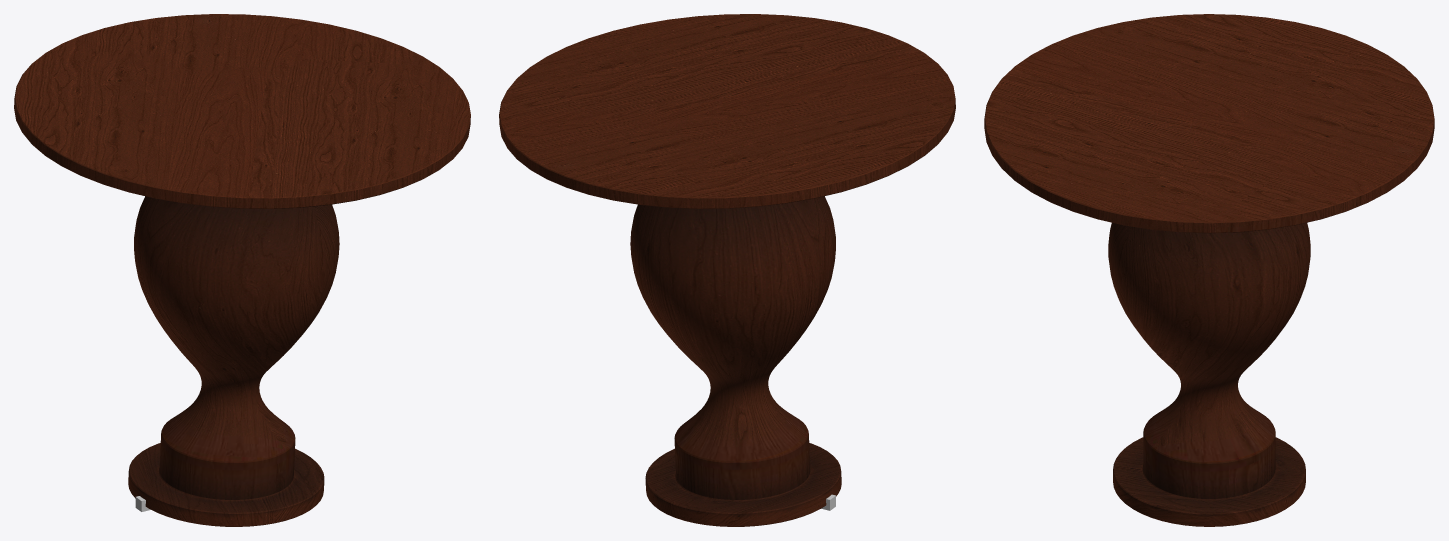
The model's file is 10248_Side_Table_v1_iterations-2.obj.
3 renders of one model, left to right at view 1: azimuth 30°, elevation 25°; view 2: azimuth 150°, elevation 25°; view 3: azimuth 270°, elevation 25°, orthographic.
Visible parts, largest first — view 1: 10248_Side_Table_v1_iterations-2; view 2: 10248_Side_Table_v1_iterations-2; view 3: 10248_Side_Table_v1_iterations-2.
Boxes of the visible parts, x1,y1,x2,y2 form: 10248_Side_Table_v1_iterations-2: (14,14,470,526); 10248_Side_Table_v1_iterations-2: (499,14,955,526); 10248_Side_Table_v1_iterations-2: (984,14,1434,526).
Bounding box in the file's own units: 75.7 × 71.6 × 75.69.
